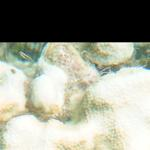dead: (8, 43, 145, 144)
